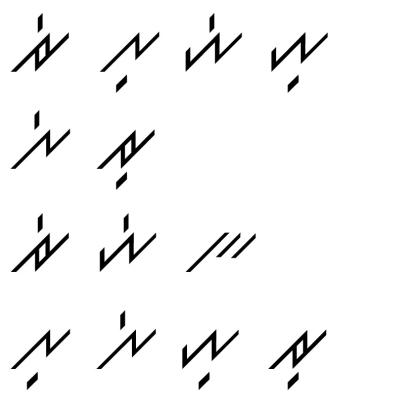le: (89, 305, 158, 376), (11, 103, 76, 174)
lu: (5, 320, 76, 394), (96, 28, 164, 94)
re: (7, 209, 73, 283), (8, 10, 75, 78)
ru: (92, 116, 160, 193), (270, 320, 331, 396)
ye: (92, 212, 161, 280), (180, 8, 244, 70)
yu: (266, 25, 334, 98), (176, 320, 244, 393)
